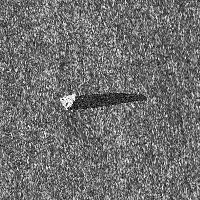mine: (59, 92, 147, 110)
